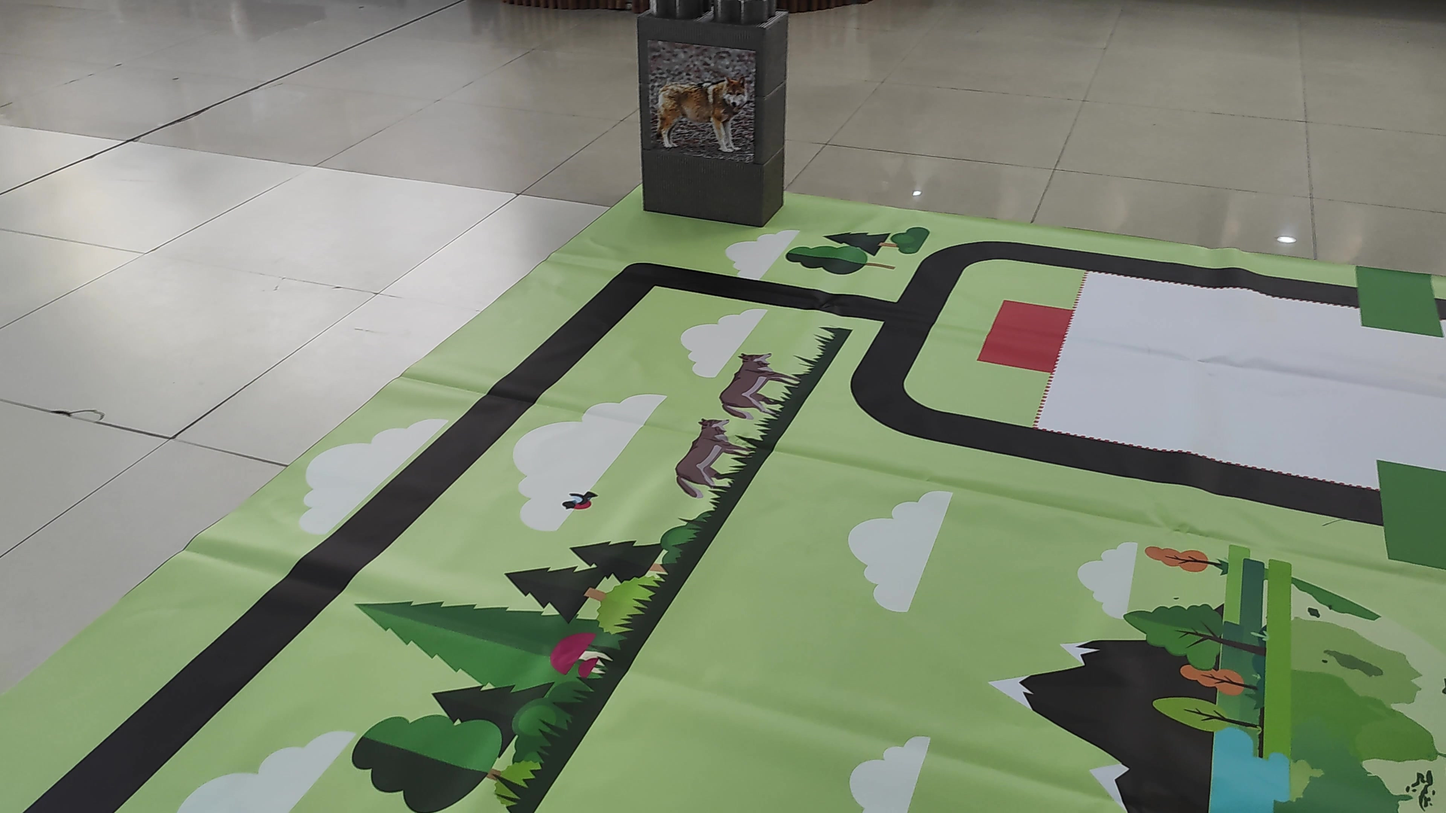wolf: (652, 59, 760, 160)
